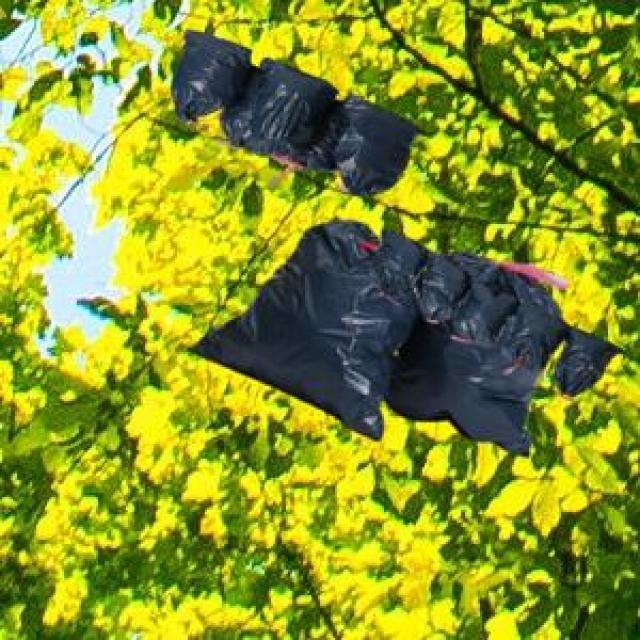waste: (191, 220, 619, 454), (172, 33, 418, 194)
